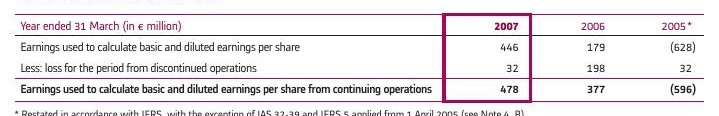table: (0, 0, 719, 116)
